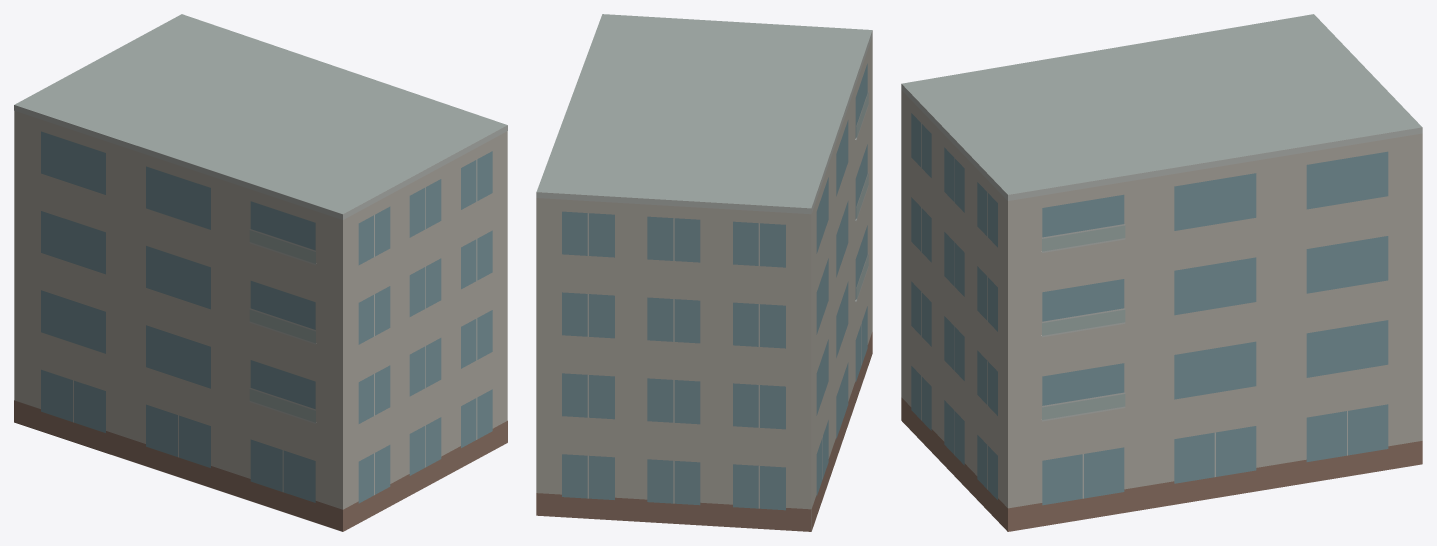
Rendered from survey-upis-32684185.glb.
The picture shows the model from 3 angles, left to right: view 1: azimuth 30°, elevation 25°; view 2: azimuth 150°, elevation 25°; view 3: azimuth 270°, elevation 25°; orthographic projection. The views are drawn at different scales.
Visible parts, largest first — view 1: survey-upis-32684185.tmp; view 2: survey-upis-32684185.tmp; view 3: survey-upis-32684185.tmp.
Boxes of the visible parts, x1=… form: survey-upis-32684185.tmp: x1=14, y1=14, x2=507, y2=531; survey-upis-32684185.tmp: x1=536, y1=14, x2=872, y2=531; survey-upis-32684185.tmp: x1=901, y1=14, x2=1422, y2=531.
Size of the model in its own units: 15.44 by 13.4 by 18.79.
